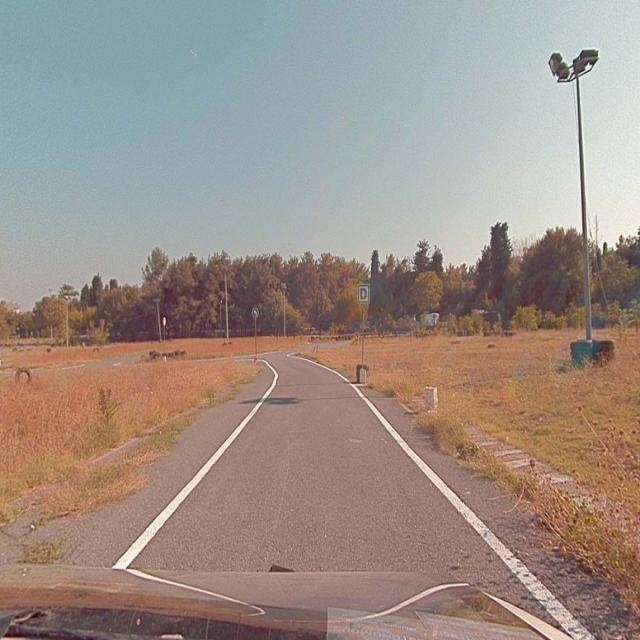durak: (358, 284, 369, 302)
sol: (252, 308, 258, 318)
